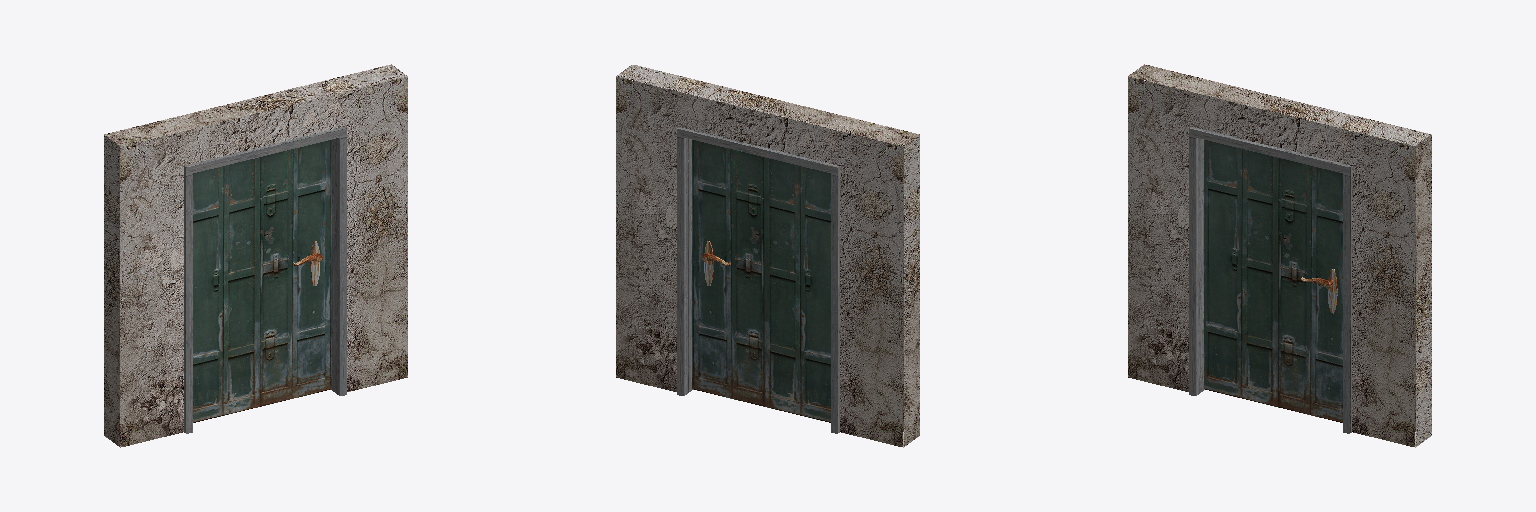
The picture shows the model from 3 angles: view 1: azimuth 30°, elevation 25°; view 2: azimuth 150°, elevation 25°; view 3: azimuth 330°, elevation 25°; orthographic projection.
Visible parts, largest first — view 1: Box001, Box002; view 2: Box001, Box002; view 3: Box001, Box002.
Part boxes in pixels (x1,y1,x2,y2): Box001: (104, 64, 407, 447); Box002: (193, 140, 331, 422); Box001: (616, 65, 919, 447); Box002: (692, 140, 830, 422); Box001: (1128, 64, 1431, 447); Box002: (1204, 140, 1342, 422).
Size of the model in its own units: 39.37 by 39.37 by 5.12.
Materials: 1 (1 with a texture image).